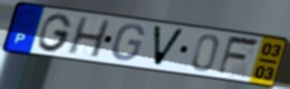0: (190, 33, 221, 72)
F: (214, 35, 262, 78)
G: (36, 12, 74, 53), (110, 23, 146, 62)
H: (65, 16, 113, 60)
V: (151, 24, 187, 69)
